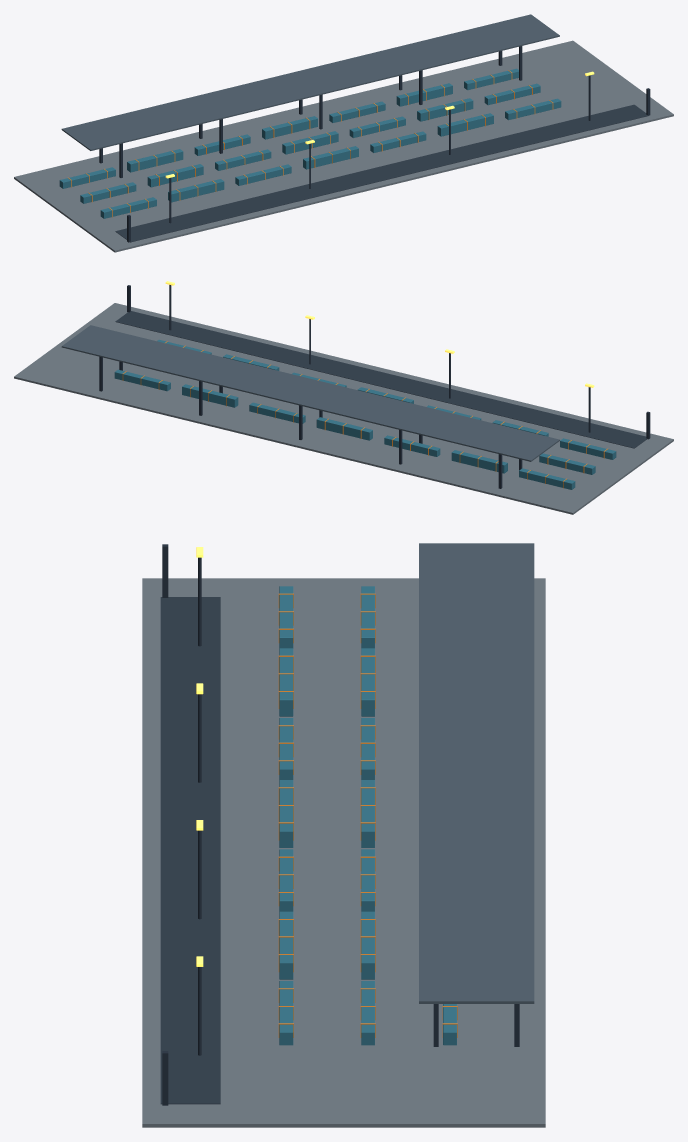
File: steel-stockyard-medium.glb
The picture shows the model from 3 angles, top to bottom: view 1: azimuth 30°, elevation 25°; view 2: azimuth 150°, elevation 25°; view 3: azimuth 270°, elevation 25°; orthographic projection. The views are drawn at different scales.
Visible parts, largest first — view 1: stockyard_slab, open_shed_roof, stockyard_lane, steel_bundle.015, steel_bundle.017, steel_bundle.001, steel_bundle.003, steel_bundle.010, steel_bundle.012, steel_bundle.019, steel_bundle.005, steel_bundle.008 (+12 smaller); view 2: stockyard_slab, open_shed_roof, stockyard_lane, steel_bundle.017, steel_bundle.015, steel_bundle.019, steel_bundle.020, steel_bundle, steel_bundle.014, steel_bundle.007, steel_bundle.018, steel_bundle.016; view 3: stockyard_slab, open_shed_roof, stockyard_lane, steel_bundle.005, steel_bundle.001, steel_bundle.003, steel_bundle.006, steel_bundle.008, steel_bundle.010, steel_bundle.012, steel_bundle, steel_bundle.002 (+5 smaller).
Part boxes in pixels (x1=…): stockyard_slab: x1=14, y1=40, x2=673, y2=252; open_shed_roof: x1=61, y1=14, x2=559, y2=150; stockyard_lane: x1=115, y1=104, x2=649, y2=242; steel_bundle.015: x1=127, y1=149, x2=183, y2=172; steel_bundle.017: x1=262, y1=116, x2=317, y2=139; steel_bundle.001: x1=168, y1=179, x2=224, y2=202; steel_bundle.003: x1=303, y1=146, x2=358, y2=169; steel_bundle.010: x1=282, y1=131, x2=338, y2=154; steel_bundle.012: x1=417, y1=98, x2=473, y2=121; steel_bundle.019: x1=396, y1=83, x2=452, y2=106; steel_bundle.005: x1=437, y1=113, x2=493, y2=136; steel_bundle.008: x1=147, y1=164, x2=203, y2=187; stockyard_slab: x1=14, y1=303, x2=673, y2=514; open_shed_roof: x1=61, y1=325, x2=559, y2=461; stockyard_lane: x1=115, y1=311, x2=647, y2=448; steel_bundle.017: x1=316, y1=417, x2=372, y2=440; steel_bundle.015: x1=451, y1=450, x2=507, y2=473; steel_bundle.019: x1=182, y1=384, x2=238, y2=407; steel_bundle.020: x1=114, y1=369, x2=170, y2=391; steel_bundle: x1=560, y1=438, x2=616, y2=459; steel_bundle.014: x1=519, y1=468, x2=575, y2=489; steel_bundle.007: x1=539, y1=453, x2=595, y2=474; steel_bundle.018: x1=249, y1=402, x2=305, y2=423; steel_bundle.016: x1=384, y1=435, x2=440, y2=456; stockyard_slab: x1=142, y1=578, x2=545, y2=1127; open_shed_roof: x1=419, y1=543, x2=534, y2=1003; stockyard_lane: x1=160, y1=597, x2=220, y2=1104; steel_bundle.005: x1=279, y1=911, x2=293, y2=979; steel_bundle.001: x1=279, y1=648, x2=293, y2=716; steel_bundle.003: x1=279, y1=780, x2=293, y2=847; steel_bundle.006: x1=279, y1=981, x2=293, y2=1045; steel_bundle.008: x1=361, y1=648, x2=374, y2=716; steel_bundle.010: x1=361, y1=780, x2=374, y2=847; steel_bundle.012: x1=361, y1=911, x2=374, y2=979; steel_bundle: x1=279, y1=586, x2=293, y2=648; steel_bundle.002: x1=279, y1=718, x2=293, y2=779.
Size of the model in its own units: 112 by 9.51 by 35.
